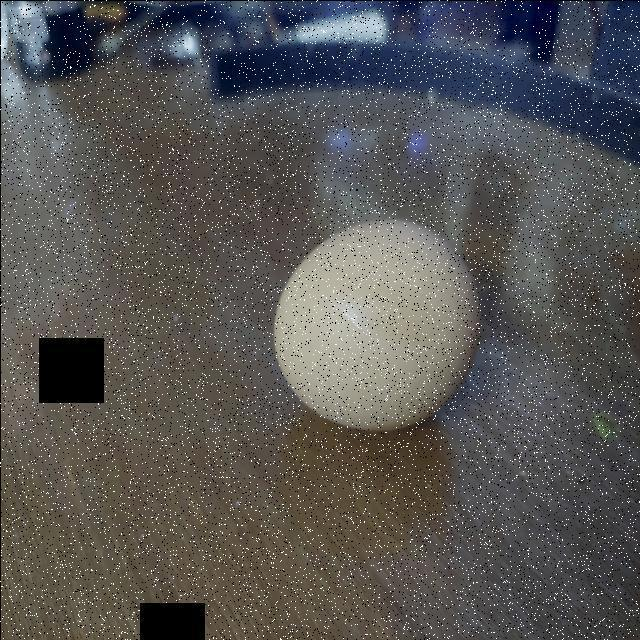egg: (265, 214, 489, 434)
